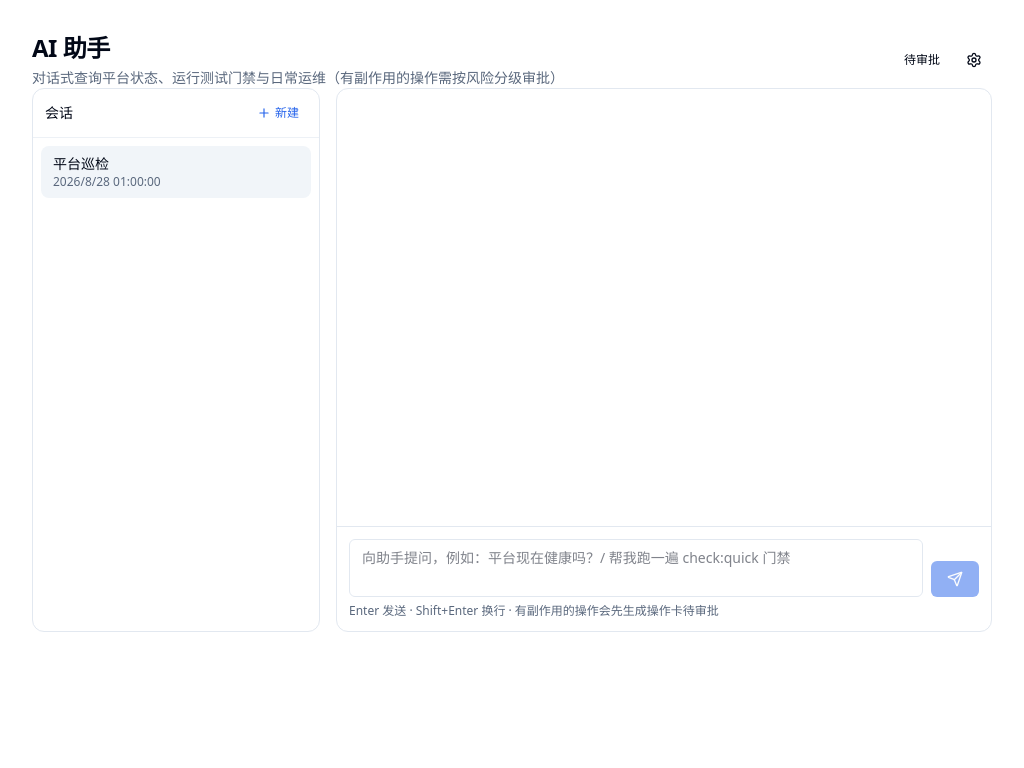
Test: AssistantPage › 输入消息回车发送并展示用户气泡
This screenshot has width=1024, height=768.
Type "帮我跑一遍 check:quick 门禁" into the text box named "消息输入框" at (636, 568), box [349, 539, 923, 597]
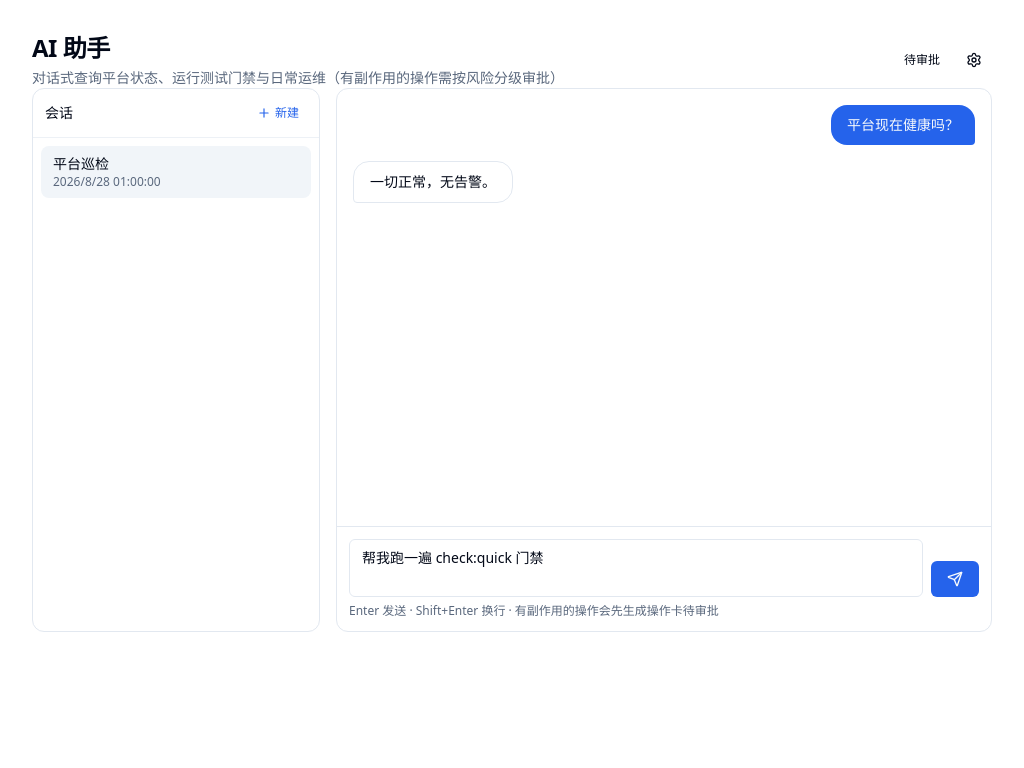
Press Enter in the text box named "消息输入框", box [349, 539, 923, 597]
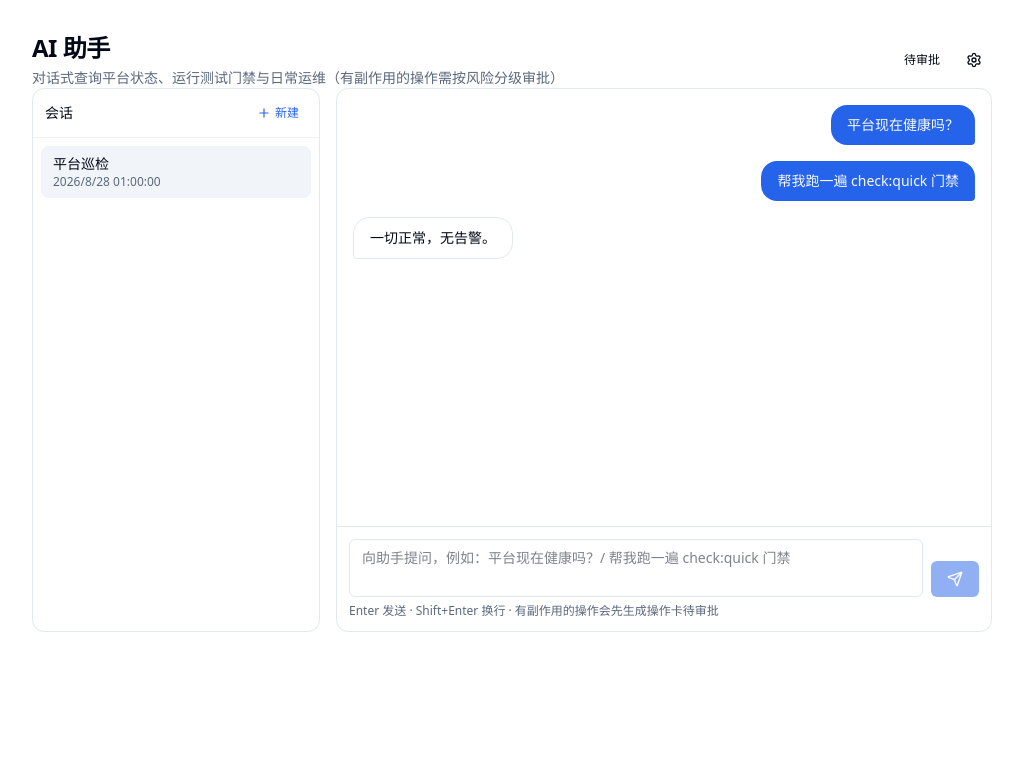
Expected: the text "帮我跑一遍 check:quick 门禁" is shown, [761, 161, 975, 201]
